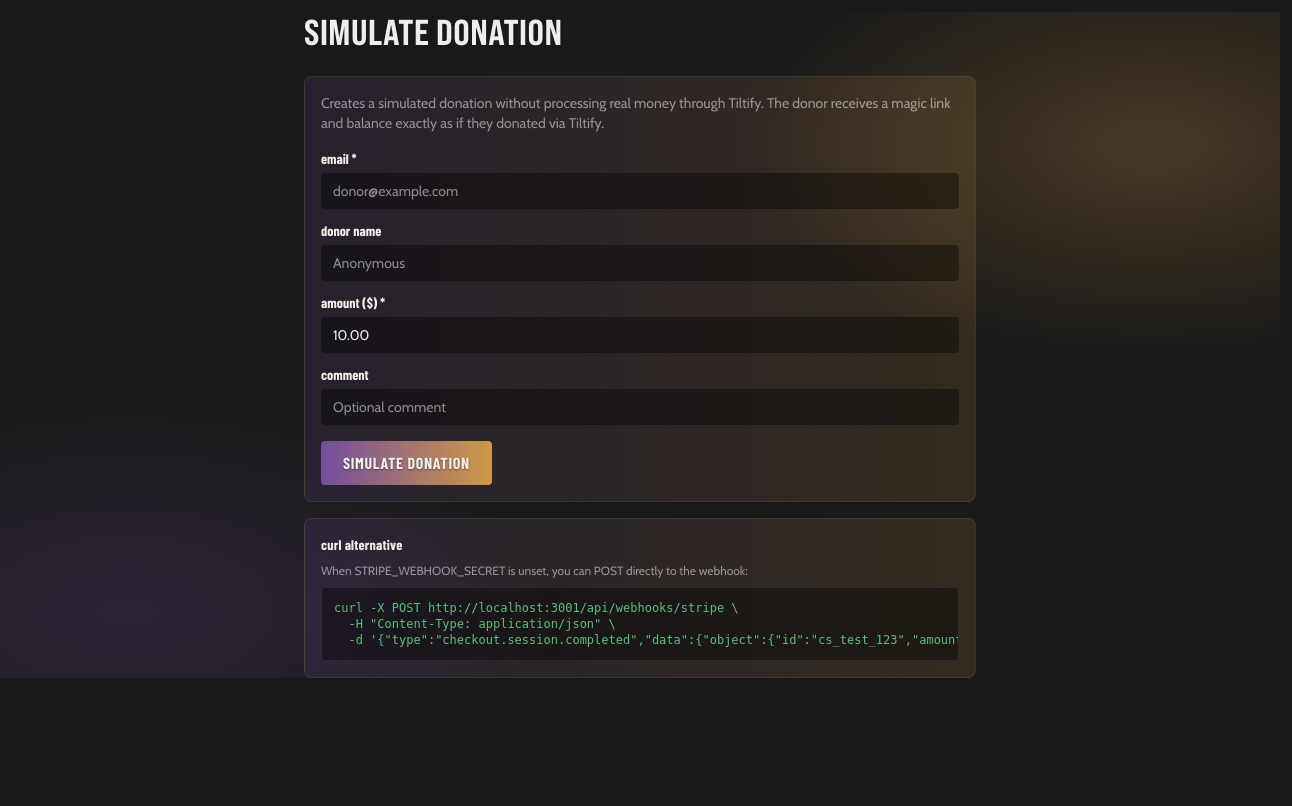
it: AdminSimulate › fills all form fields including donor name and comment
In the field with placeholder "donor@example.com": x=640, y=191 x1=321 y1=173 x2=959 y2=209, type "alice@example.com"
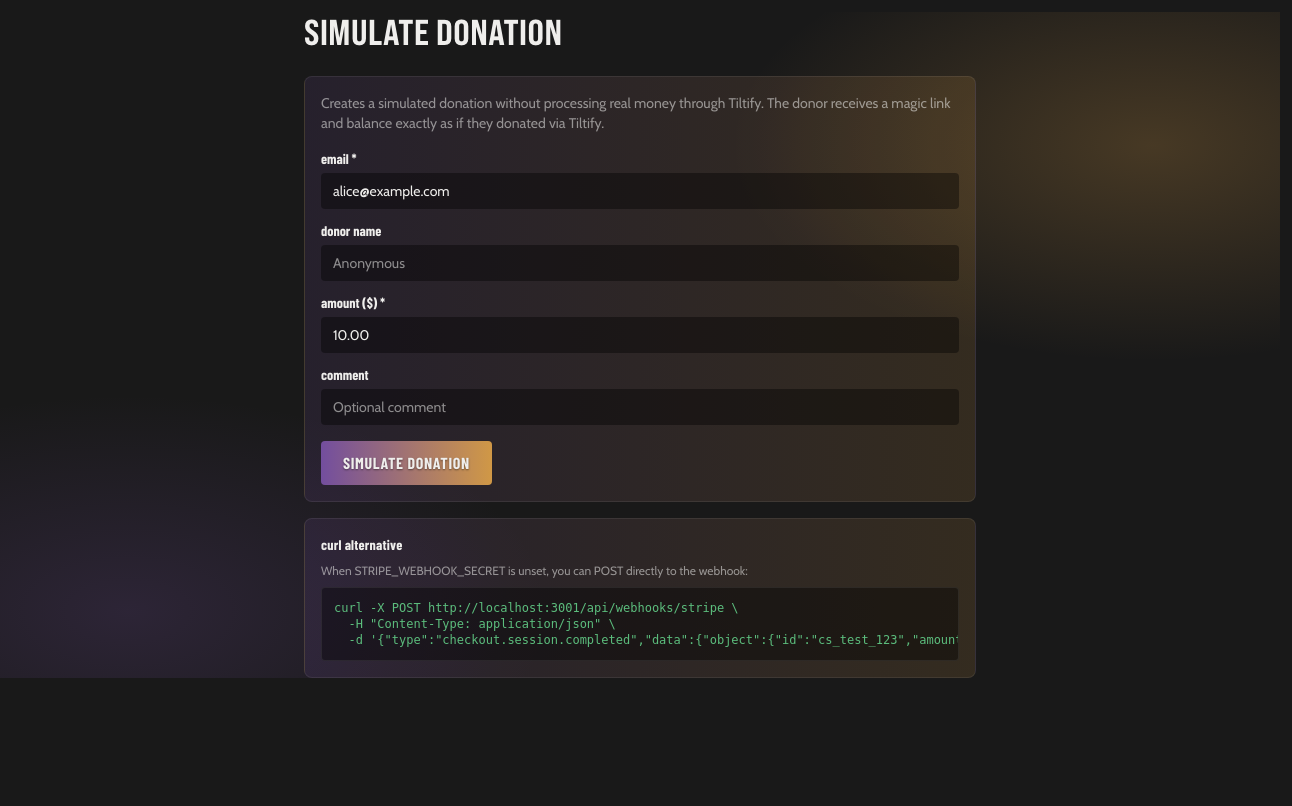
In the field with placeholder "Anonymous": x=640, y=263 x1=321 y1=245 x2=959 y2=281, type "Alice"
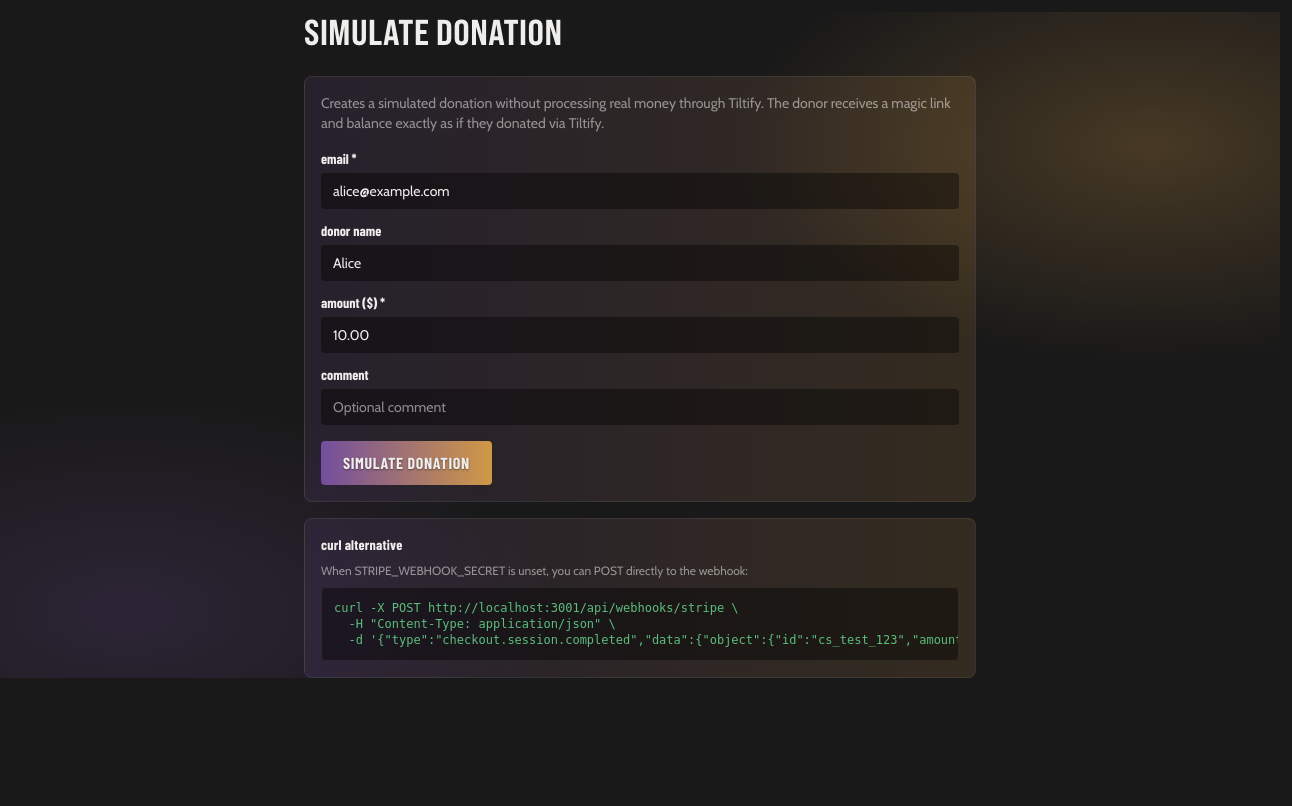
In the field with placeholder "Optional comment": x=640, y=407 x1=321 y1=389 x2=959 y2=425, type "A comment"
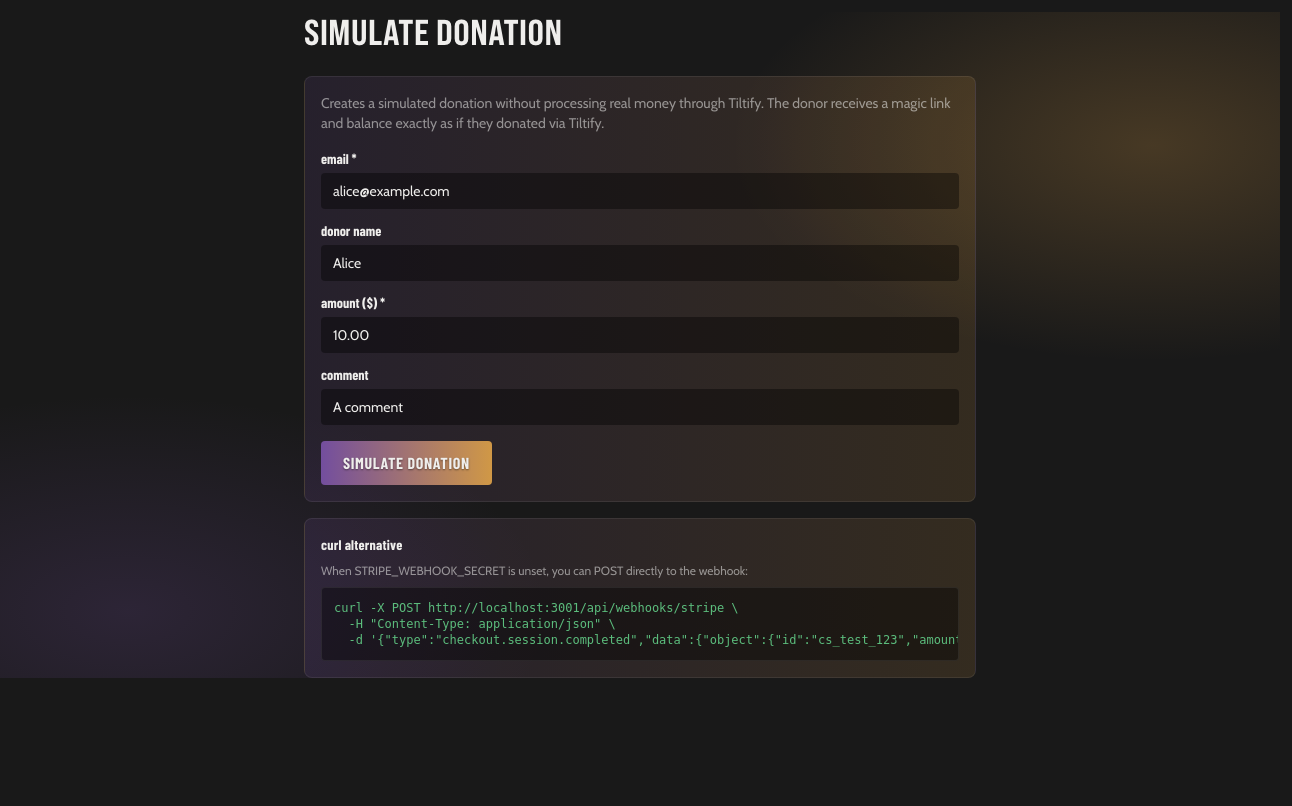
Click the button "simulate donation": x=406, y=463 x1=321 y1=441 x2=492 y2=485
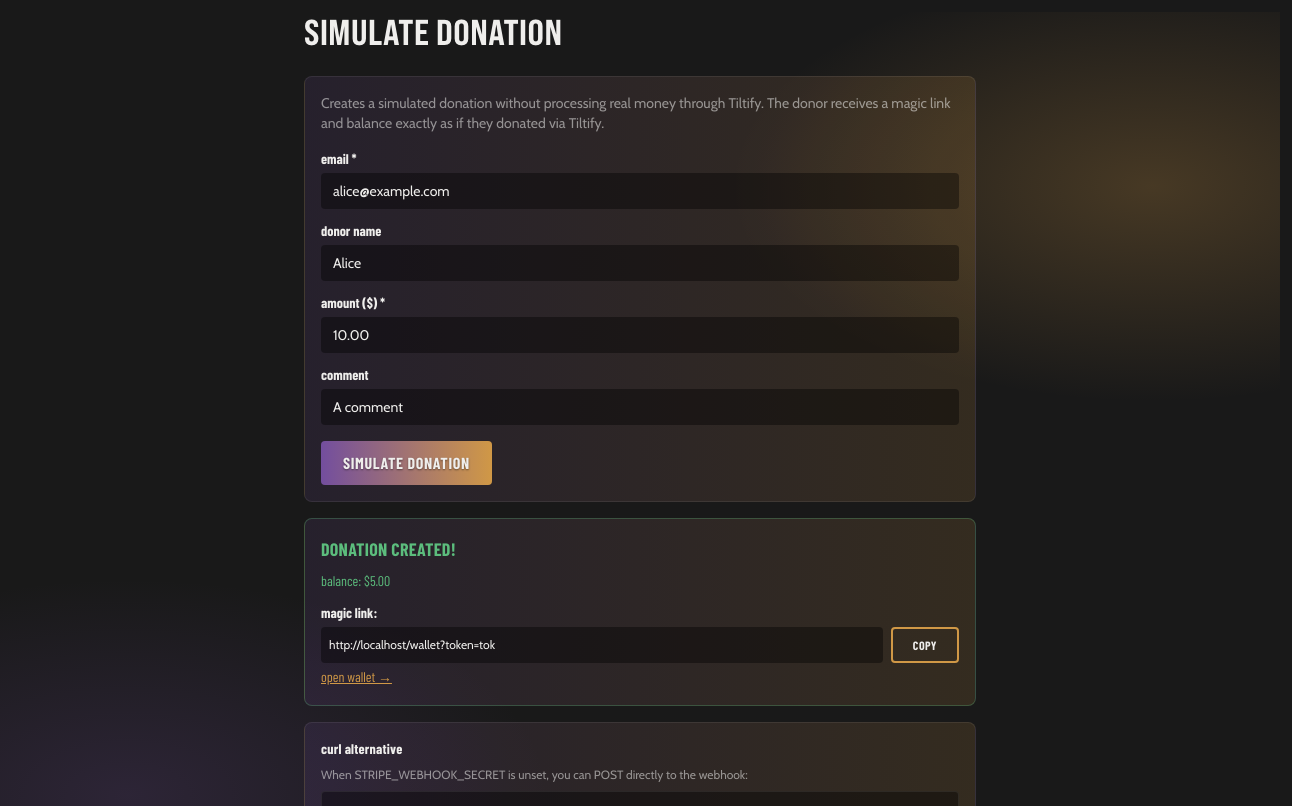
Result: the heading "donation created!" is shown at x1=321 y1=538 x2=456 y2=560
